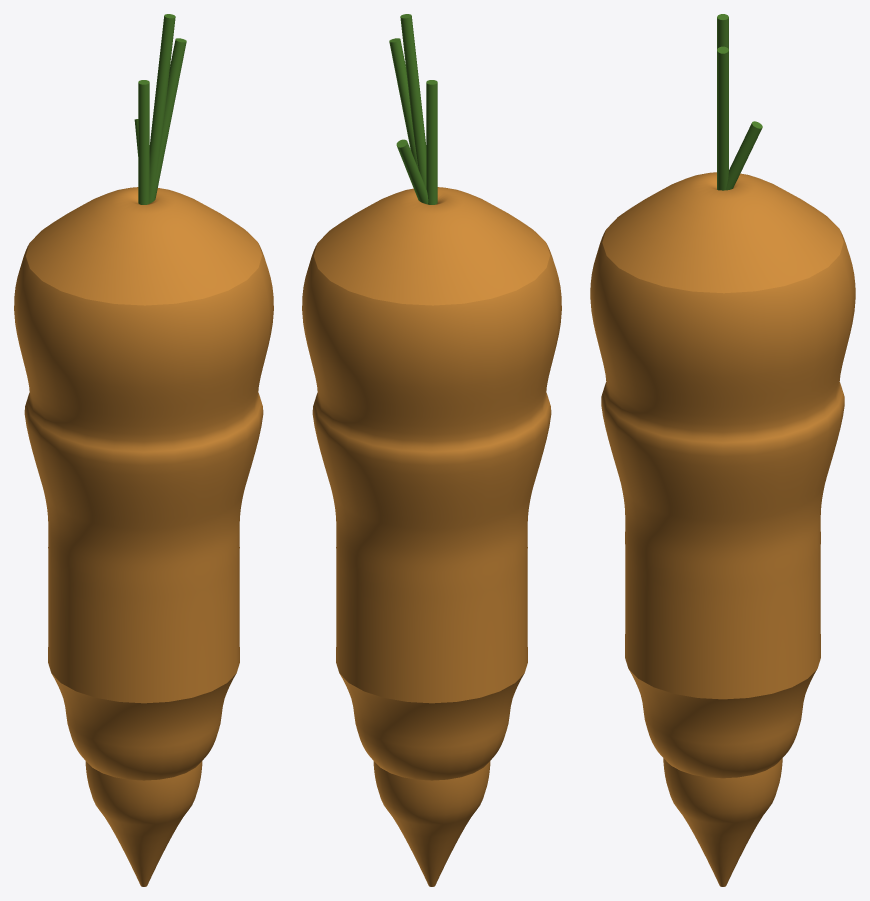
File: Zanahahoria.fbx
The picture shows the model from 3 angles, left to right: view 1: azimuth 30°, elevation 25°; view 2: azimuth 150°, elevation 25°; view 3: azimuth 270°, elevation 25°; orthographic projection. The views are drawn at different scales.
Parts seen in each view (by area): view 1: Torno, Cilindro_1, Cilindro, Cilindro_3; view 2: Torno, Cilindro_1, Cilindro, Cilindro_3, Cilindro_2; view 3: Torno, Cilindro_3, Cilindro_2.
Part boxes in pixels (<box>): Torno: <box>14,187,273,886</box>; Cilindro_1: <box>149,14,175,202</box>; Cilindro: <box>138,80,149,204</box>; Cilindro_3: <box>149,38,186,203</box>; Torno: <box>302,187,561,886</box>; Cilindro_1: <box>400,14,426,188</box>; Cilindro: <box>426,80,437,204</box>; Cilindro_3: <box>389,38,418,168</box>; Cilindro_2: <box>396,139,428,204</box>; Torno: <box>590,172,855,886</box>; Cilindro_3: <box>717,46,728,190</box>; Cilindro_2: <box>725,121,762,190</box>.
Bounding box in the file's own units: 66.64 × 244 × 66.64.
